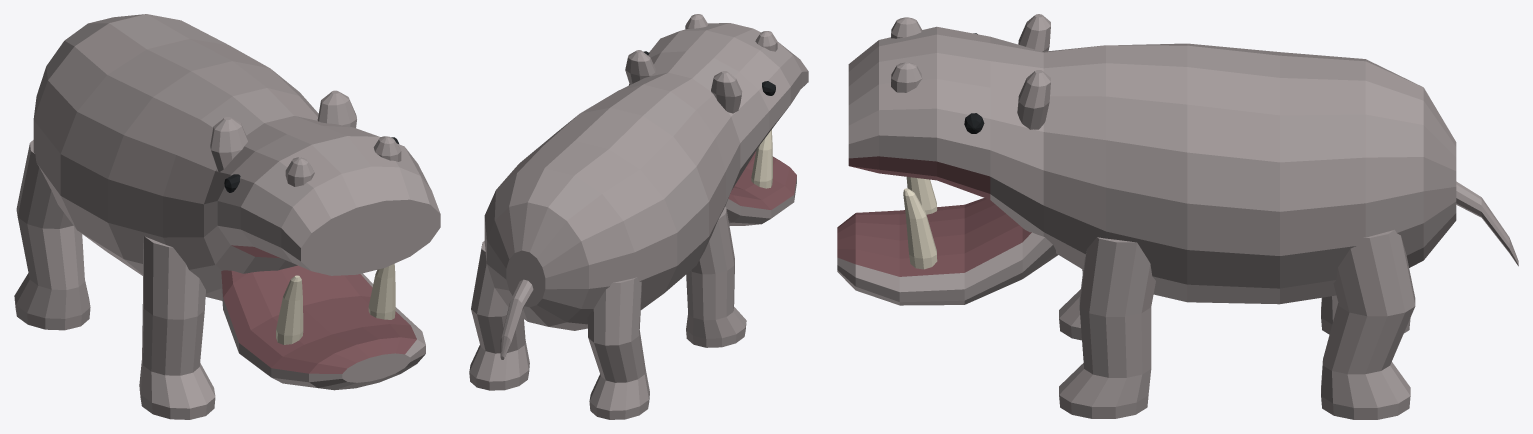
3 views of the same model, side by side, from view 1: azimuth 30°, elevation 25°; view 2: azimuth 150°, elevation 25°; view 3: azimuth 270°, elevation 25° (orthographic). The views are drawn at different scales.
Visible parts, largest first — view 1: WholeBroadBarrelShortNeckAndRaisedUpperMuzzle, WholeBroadLowOpenJawAndSeatedRearRoot, WholeShortThickFrontLegAndFoot0, WholeShortThickRearLegAndFoot0, WholeBluntLowerCanine0, WholeSmallHighRoundedEar0, WholeBluntLowerCanine1, WholeSmallHighRoundedEar1, WholeHighNasalMound0, WholeHighNasalMound1; view 2: WholeBroadBarrelShortNeckAndRaisedUpperMuzzle, WholeShortThickRearLegAndFoot0, WholeShortThickFrontLegAndFoot0, WholeShortThickRearLegAndFoot1, WholeBroadLowOpenJawAndSeatedRearRoot, WholeShortRearTail, WholeSmallHighRoundedEar0, WholeBluntLowerCanine0, WholeSmallHighRoundedEar1, WholeHighNasalMound0; view 3: WholeBroadBarrelShortNeckAndRaisedUpperMuzzle, WholeBroadLowOpenJawAndSeatedRearRoot, WholeShortThickRearLegAndFoot1, WholeShortThickFrontLegAndFoot1, WholeBluntLowerCanine1, WholeSmallHighRoundedEar1, WholeShortRearTail, WholeSmallHighRoundedEar0, WholeShortThickFrontLegAndFoot0, WholeHighNasalMound1, WholeBluntLowerCanine0.
Boxes of the visible parts, <box> form: WholeBroadBarrelShortNeckAndRaisedUpperMuzzle: <box>33,14,440,300</box>; WholeBroadLowOpenJawAndSeatedRearRoot: <box>220,265,425,390</box>; WholeShortThickFrontLegAndFoot0: <box>139,236,215,419</box>; WholeShortThickRearLegAndFoot0: <box>14,140,90,330</box>; WholeBluntLowerCanine0: <box>276,275,303,344</box>; WholeSmallHighRoundedEar0: <box>210,117,247,172</box>; WholeBluntLowerCanine1: <box>368,263,395,319</box>; WholeSmallHighRoundedEar1: <box>317,90,356,127</box>; WholeHighNasalMound0: <box>285,157,314,186</box>; WholeHighNasalMound1: <box>373,136,401,161</box>; WholeBroadBarrelShortNeckAndRaisedUpperMuzzle: <box>484,23,808,330</box>; WholeShortThickRearLegAndFoot0: <box>587,277,649,419</box>; WholeShortThickFrontLegAndFoot0: <box>686,207,746,347</box>; WholeShortThickRearLegAndFoot1: <box>469,241,529,390</box>; WholeBroadLowOpenJawAndSeatedRearRoot: <box>725,151,796,225</box>; WholeShortRearTail: <box>500,279,533,359</box>; WholeSmallHighRoundedEar0: <box>711,71,742,113</box>; WholeBluntLowerCanine0: <box>751,129,772,188</box>; WholeSmallHighRoundedEar1: <box>625,50,655,84</box>; WholeHighNasalMound0: <box>755,31,777,51</box>; WholeBroadBarrelShortNeckAndRaisedUpperMuzzle: <box>848,26,1456,304</box>; WholeBroadLowOpenJawAndSeatedRearRoot: <box>837,198,1057,305</box>; WholeShortThickRearLegAndFoot1: <box>1321,230,1415,419</box>; WholeShortThickFrontLegAndFoot1: <box>1059,237,1155,418</box>; WholeBluntLowerCanine1: <box>903,188,937,269</box>; WholeSmallHighRoundedEar1: <box>1017,70,1050,129</box>; WholeShortRearTail: <box>1456,181,1518,266</box>; WholeSmallHighRoundedEar0: <box>1018,14,1050,51</box>; WholeShortThickFrontLegAndFoot0: <box>1059,269,1083,340</box>; WholeHighNasalMound1: <box>891,62,922,92</box>; WholeBluntLowerCanine0: <box>906,177,937,214</box>.
Size of the model in its own units: 1.14 by 1.54 by 2.94.
